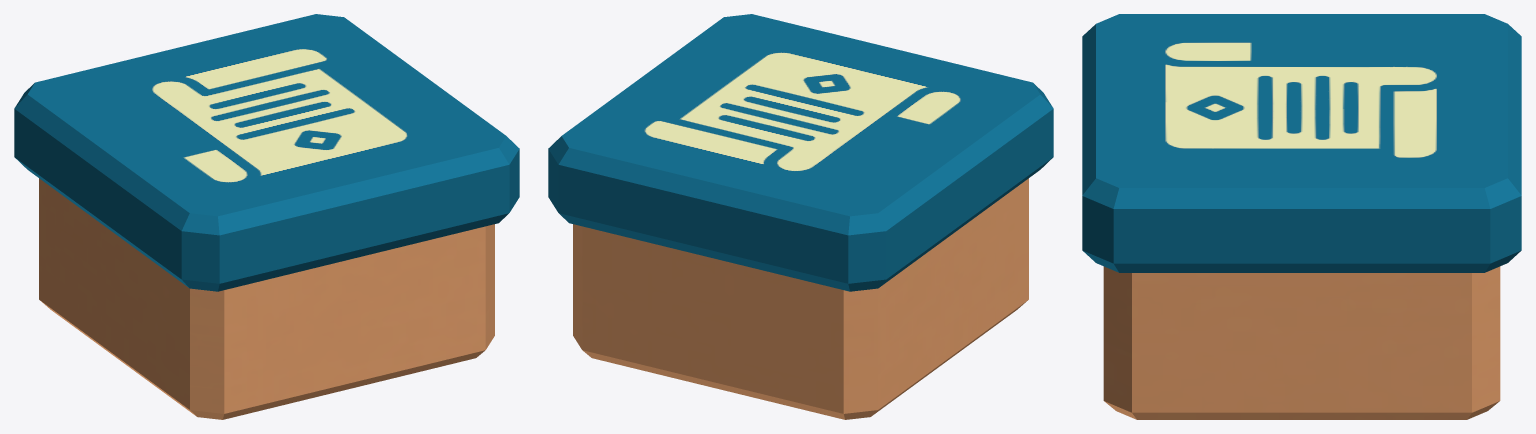
File: M_Quest_Tile.fbx
The picture shows the model from 3 angles, left to right: view 1: azimuth 30°, elevation 25°; view 2: azimuth 150°, elevation 25°; view 3: azimuth 270°, elevation 25°; orthographic projection. The views are drawn at different scales.
Visible parts, largest first — view 1: Map_Quest, Map_Base_Q; view 2: Map_Quest, Map_Base_Q; view 3: Map_Quest, Map_Base_Q.
Boxes of the visible parts, x1,y1,x2,y2 form: Map_Quest: (14, 14, 519, 291); Map_Base_Q: (39, 178, 494, 419); Map_Quest: (548, 14, 1053, 291); Map_Base_Q: (573, 178, 1028, 419); Map_Quest: (1082, 14, 1521, 272); Map_Base_Q: (1103, 266, 1500, 419).
Bounding box in the file's own units: 151 × 91.16 × 151.
Materials: 2 (2 with a texture image).
